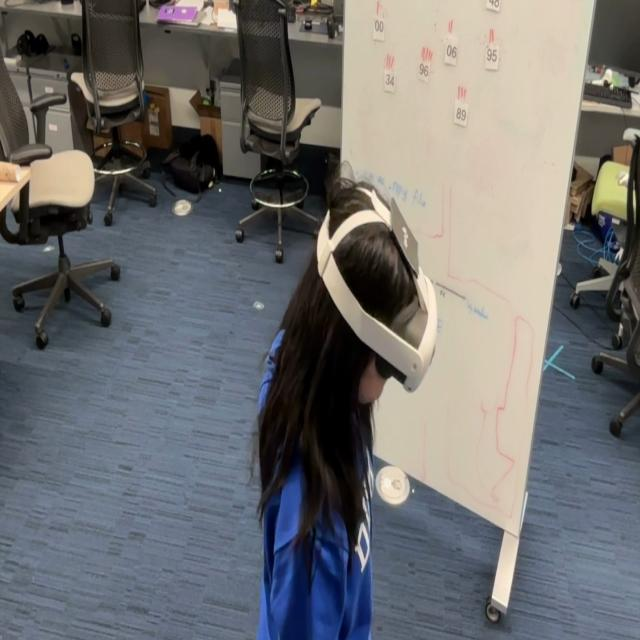Headset: (315, 180, 438, 394)
UnityLogo: (388, 194, 421, 279)
